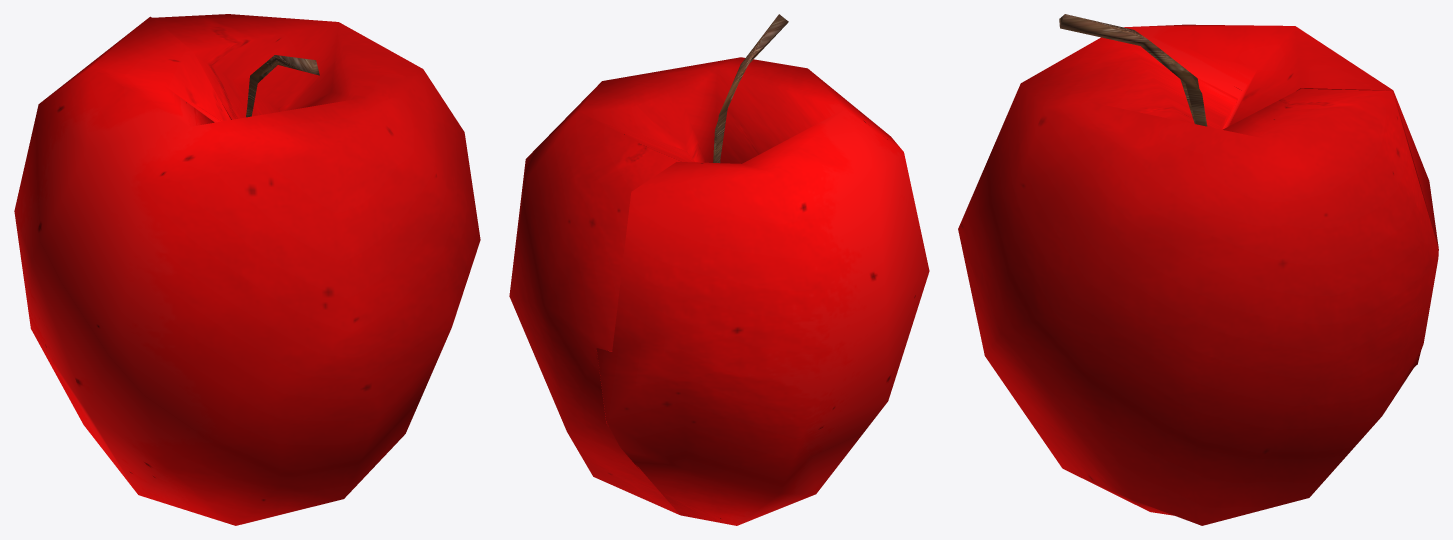
File: apple.obj
The picture shows the model from 3 angles, left to right: view 1: azimuth 30°, elevation 25°; view 2: azimuth 150°, elevation 25°; view 3: azimuth 270°, elevation 25°; orthographic projection. The views are drawn at different scales.
Parts seen in each view (by area): view 1: object, apple_skin_apple_skin.001; view 2: object, apple_skin_apple_skin.001; view 3: object, apple_skin_apple_skin.001.
Boxes of the visible parts, x1,y1,x2,y2 form: object: (14,14,480,525); apple_skin_apple_skin.001: (246,55,319,117); object: (509,57,929,525); apple_skin_apple_skin.001: (713,14,788,162); object: (958,24,1438,525); apple_skin_apple_skin.001: (1059,14,1207,126).
Size of the model in its own units: 0.1989 by 0.2341 by 0.2099.
2 materials, 2 textured.
